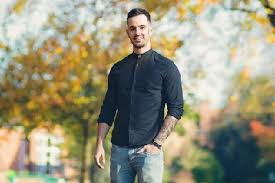Person: (93, 7, 185, 183)
